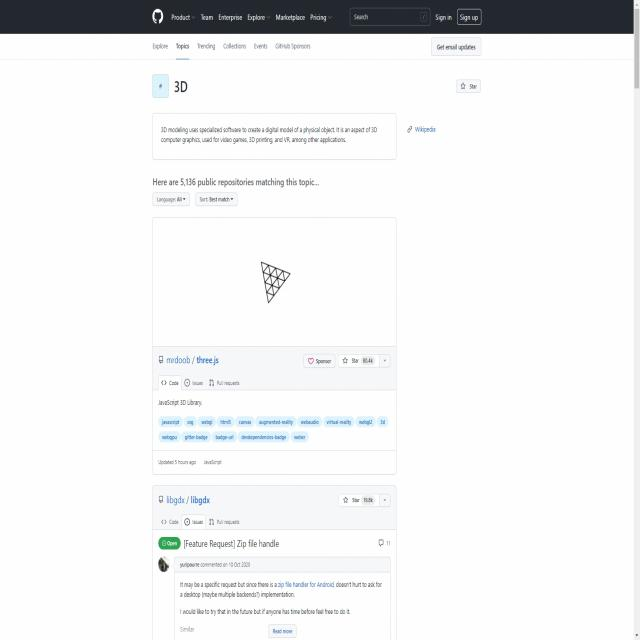menu-bar: (167, 4, 484, 31)
menu-panel: (148, 36, 318, 58)
search: (346, 3, 431, 29)
